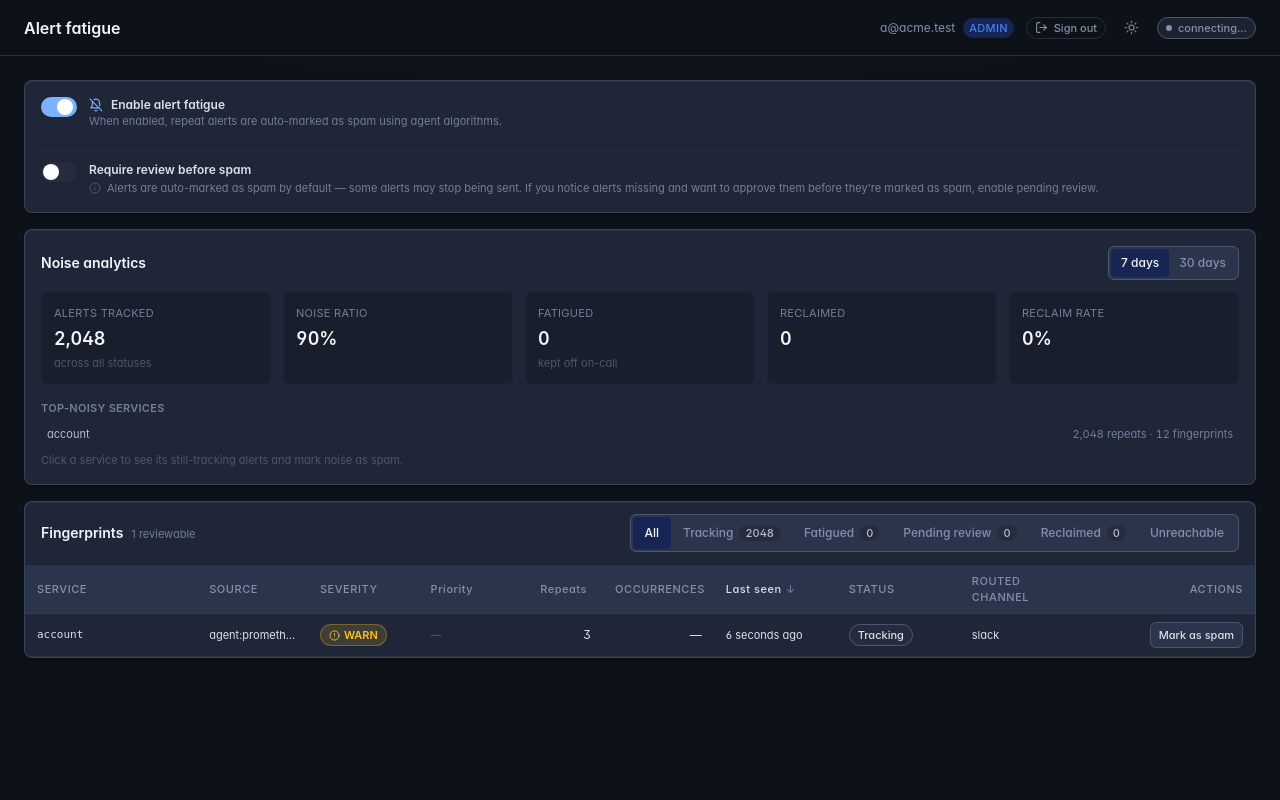
AlertFatiguePage — Tracking tab + top-noisy drill-down › clicking a top-noisy service filters the table to that service in the Tracking tab
Click the button with test id "alert-fatigue-top-noisy-account" at [68, 434], box 41,422 -> 1239,446
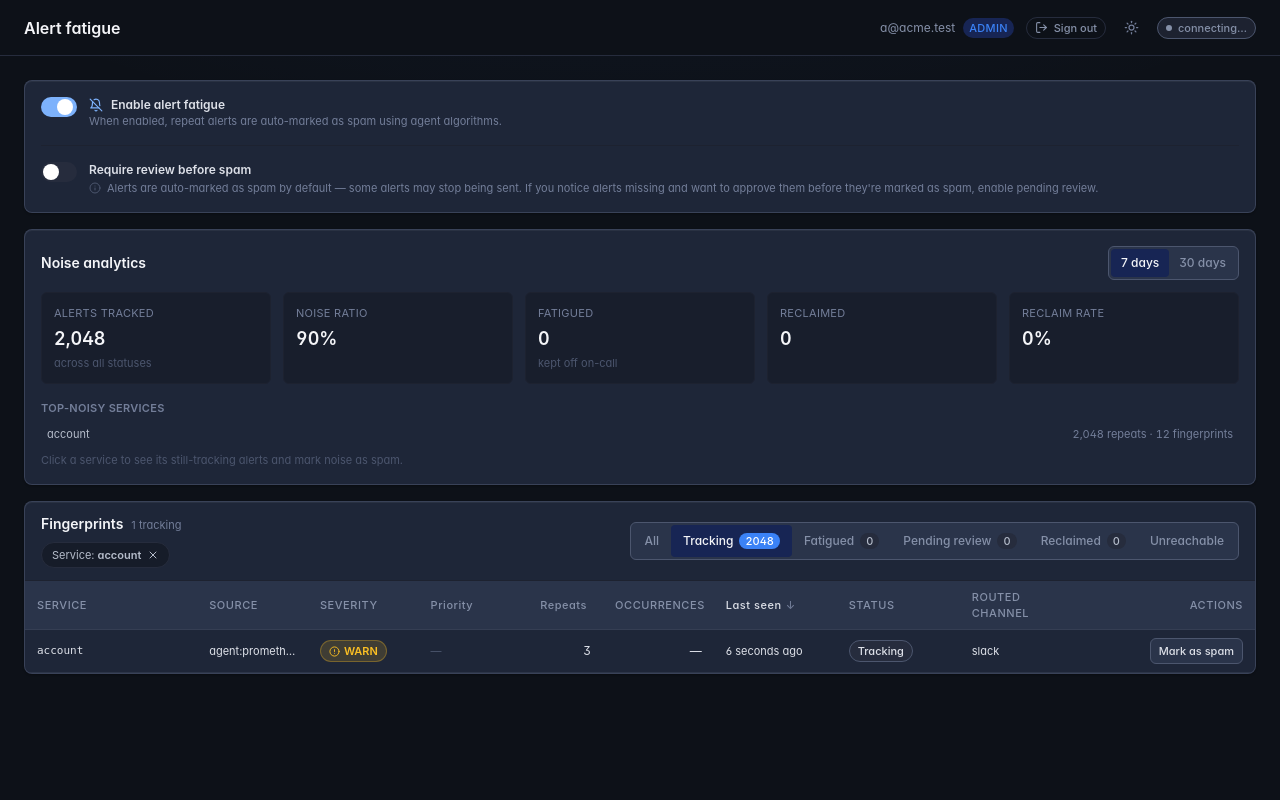
Expected: the button with test id "alert-fatigue-service-chip" shows "account"
Click the button with test id "alert-fatigue-service-chip" at [106, 555], box 41,542 -> 170,568
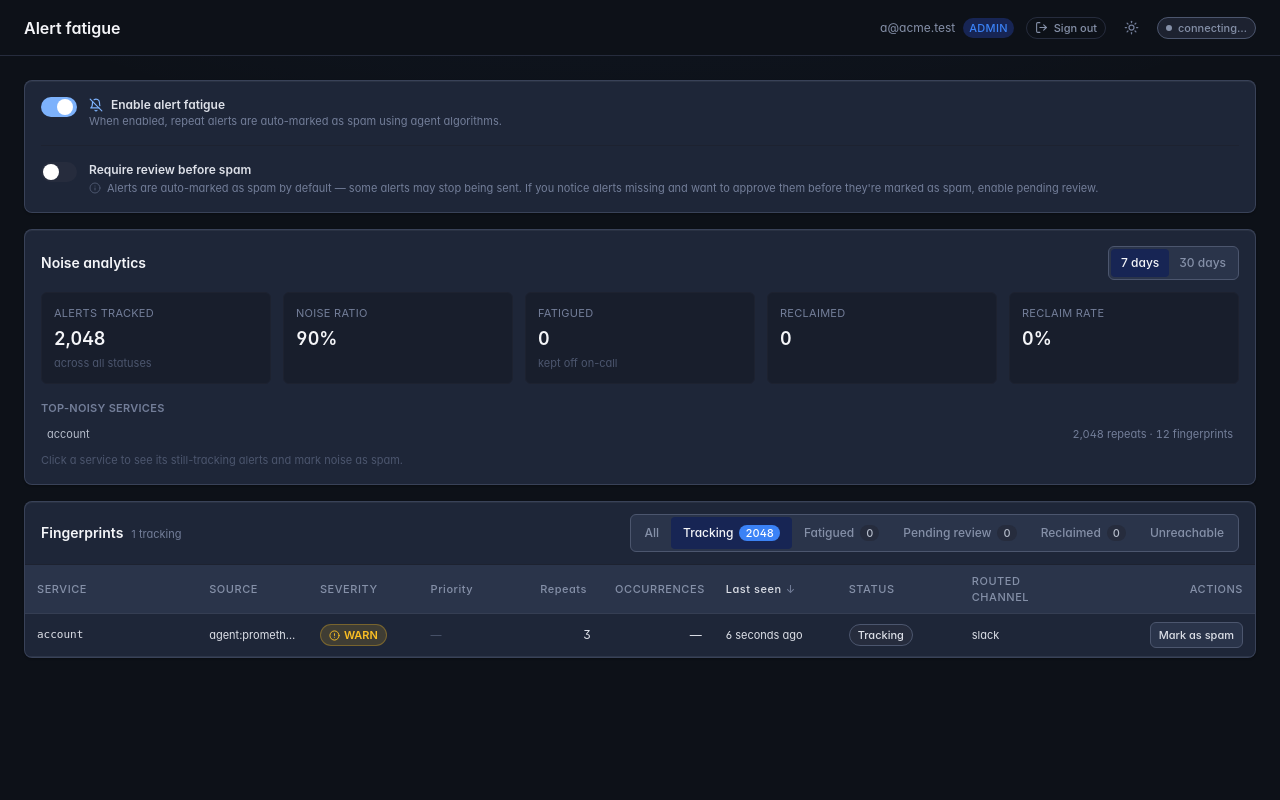
Expected: the button with test id "alert-fatigue-service-chip" is gone
